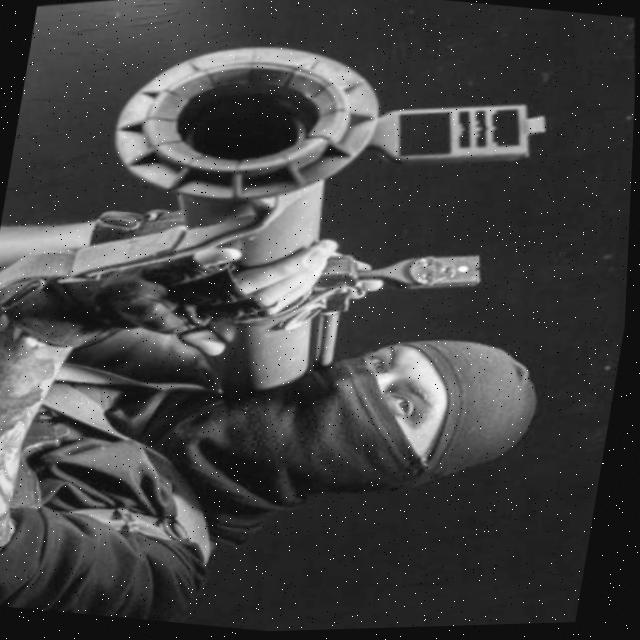rocket: (70, 0, 599, 417)
